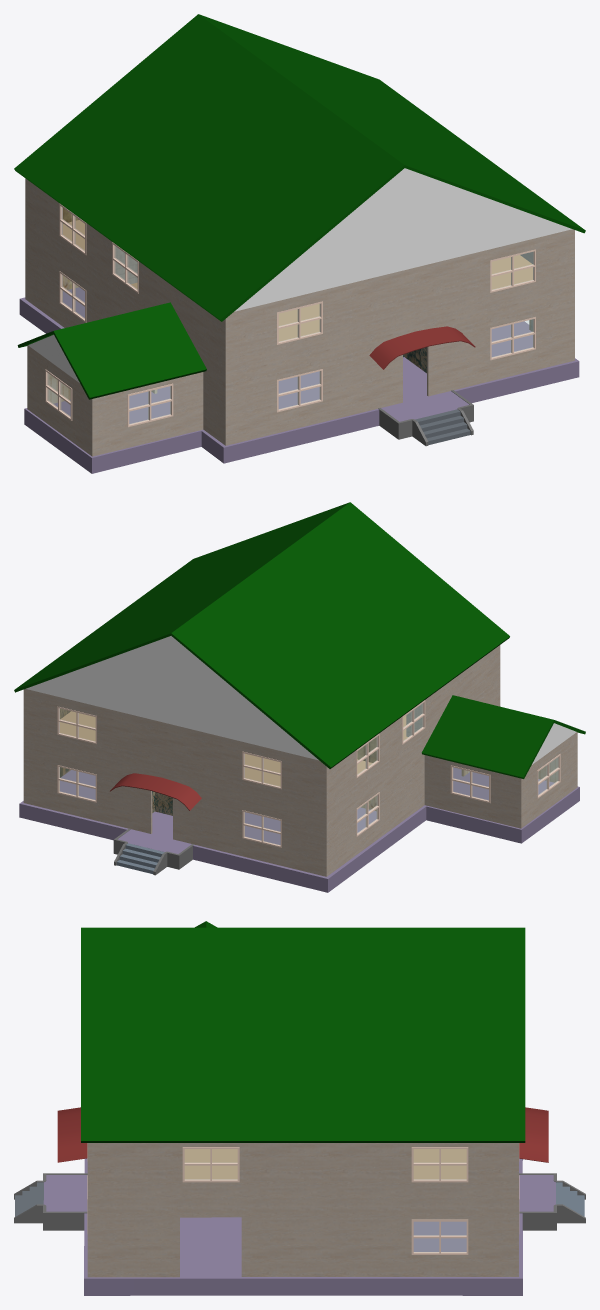
Rendered from Maison home LP.fbx.
3 renders of one model, top to bottom at view 1: azimuth 30°, elevation 25°; view 2: azimuth 150°, elevation 25°; view 3: azimuth 270°, elevation 25°, orthographic. The views are drawn at different scales.
Visible parts, largest first — view 1: Roof_1, Walls_Home_ST1.001, RoofWall.005, Floor.001, Window, ceiling.003, Roof.002, Ladder.004, WallLadder.008; view 2: Roof_1, Walls_Home_ST1.001, RoofWall.005, Floor.001, Window, ceiling.003, Roof.002, Ladder.003, WallLadder.008; view 3: Roof_1, Walls_Home_ST1.001, Floor.001, Window, ceiling.003, WallLadder.008, Roof.002, Ladder.004, Ladder.003.
Boxes of the visible parts, x1,y1,x2,y2 form: Roof_1: (14, 14, 585, 399); Walls_Home_ST1.001: (25, 178, 574, 456); RoofWall.005: (28, 168, 572, 382); Floor.001: (19, 287, 579, 473); Window: (45, 203, 535, 427); ceiling.003: (63, 220, 532, 341); Roof.002: (369, 326, 475, 369); Ladder.004: (415, 409, 470, 445); WallLadder.008: (378, 390, 473, 446); Roof_1: (14, 502, 585, 778); Walls_Home_ST1.001: (23, 645, 577, 876); RoofWall.005: (26, 636, 576, 764); Floor.001: (19, 767, 579, 892); Window: (57, 700, 560, 847); ceiling.003: (60, 711, 407, 786); Roof.002: (110, 773, 201, 810); Ladder.003: (116, 843, 164, 873); WallLadder.008: (113, 828, 194, 875); Roof_1: (81, 921, 525, 1142); Walls_Home_ST1.001: (87, 1143, 518, 1277); Floor.001: (43, 1158, 555, 1295); Window: (87, 1143, 519, 1254); ceiling.003: (184, 1149, 466, 1179); WallLadder.008: (14, 1173, 585, 1230); Roof.002: (57, 1107, 548, 1162); Ladder.004: (15, 1182, 43, 1216); Ladder.003: (556, 1182, 584, 1216).
Size of the model in its own units: 3756 by 1937 by 3644.
Materials: 15 (1 with a texture image).
